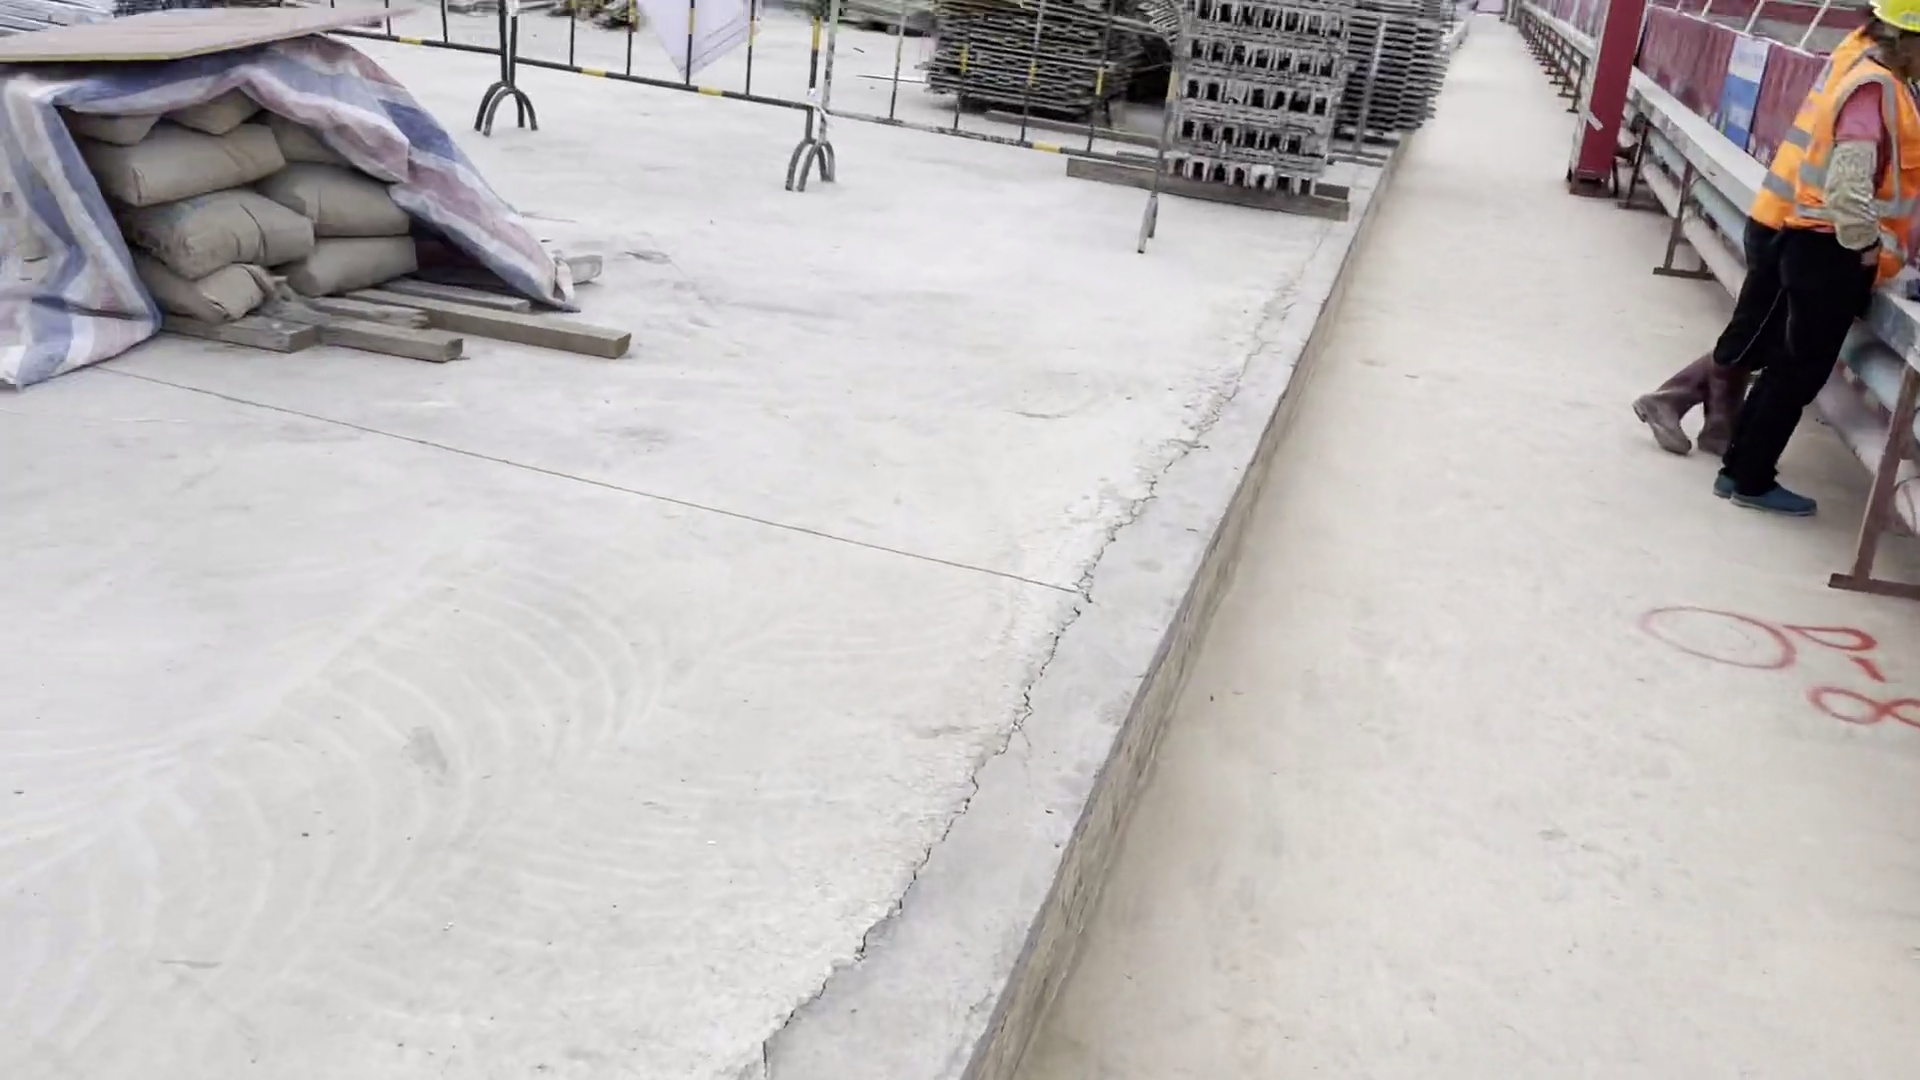board: (1, 5, 426, 85)
fence: (369, 3, 1184, 264), (1644, 8, 1815, 182)
helmet: (1874, 6, 1920, 49)
person: (1631, 8, 1892, 503), (1721, 10, 1916, 524)
slogan: (1700, 26, 1780, 169)
vest: (1733, 32, 1902, 243), (1799, 66, 1917, 258)
